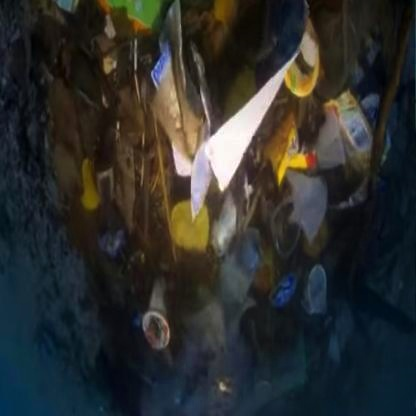plastic: (156, 58, 270, 194)
